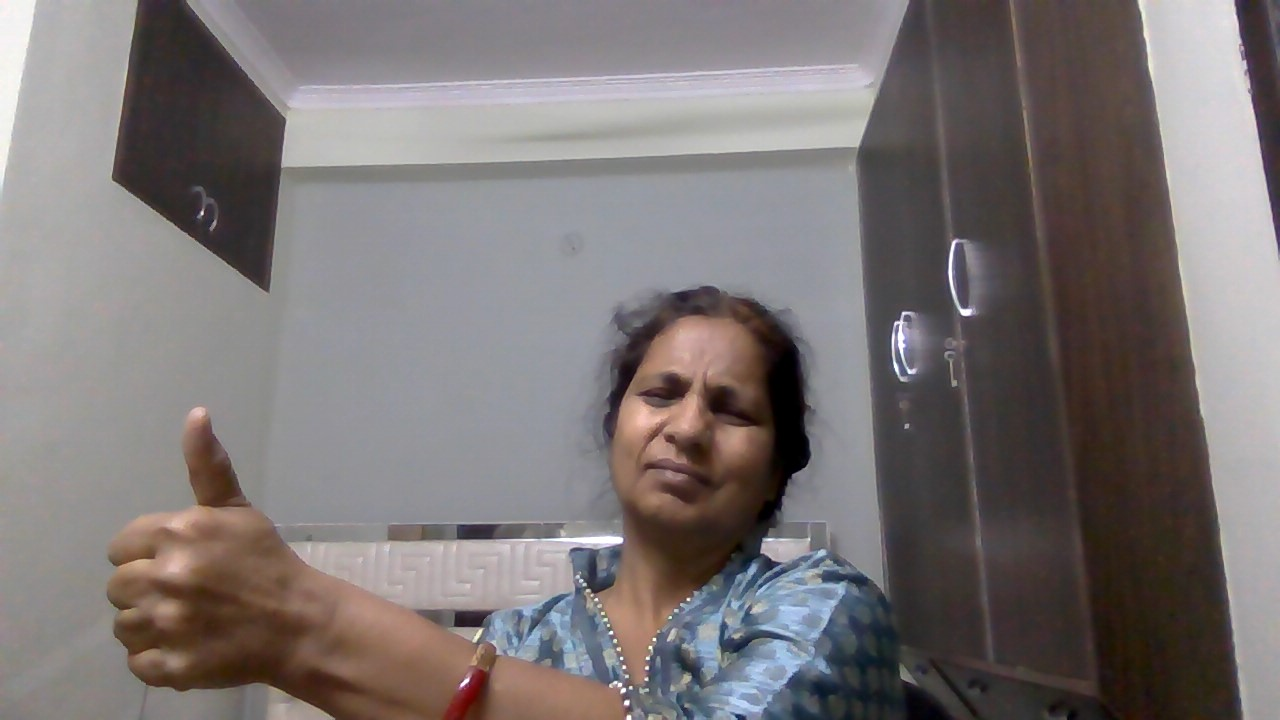Save: (90, 397, 342, 708)
